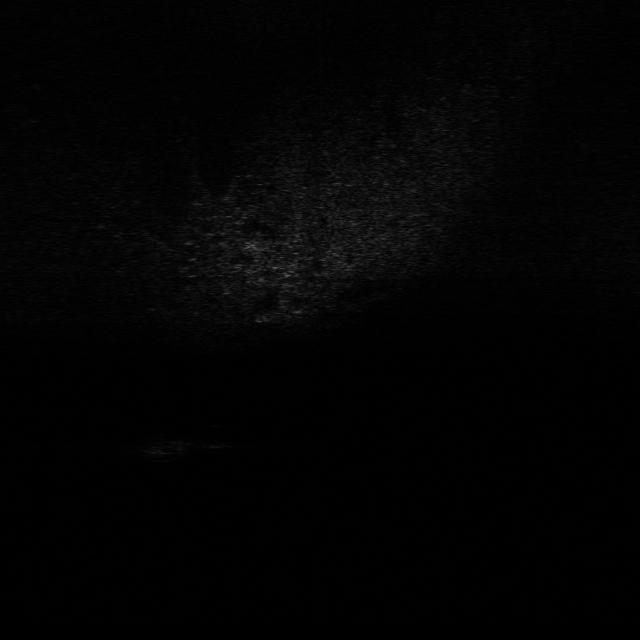ball: (198, 425, 234, 449)
circle cage: (133, 429, 196, 466)
